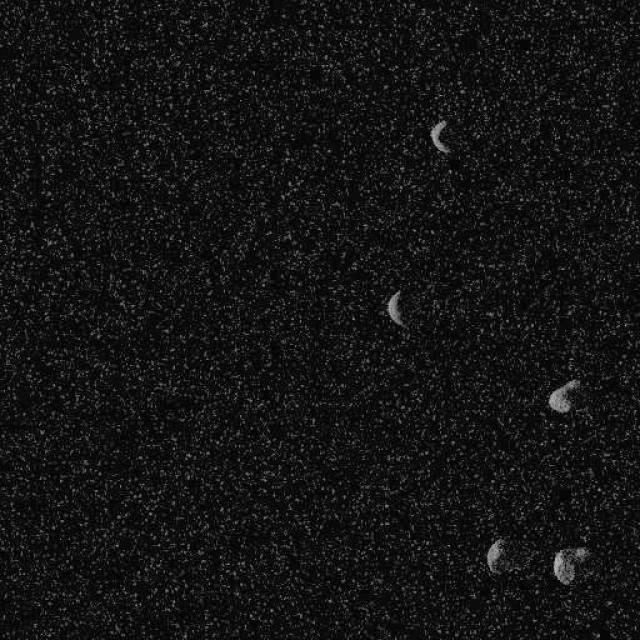D2: (551, 545, 590, 585), (546, 378, 582, 413), (485, 536, 507, 575), (385, 288, 405, 328), (429, 118, 451, 154)
